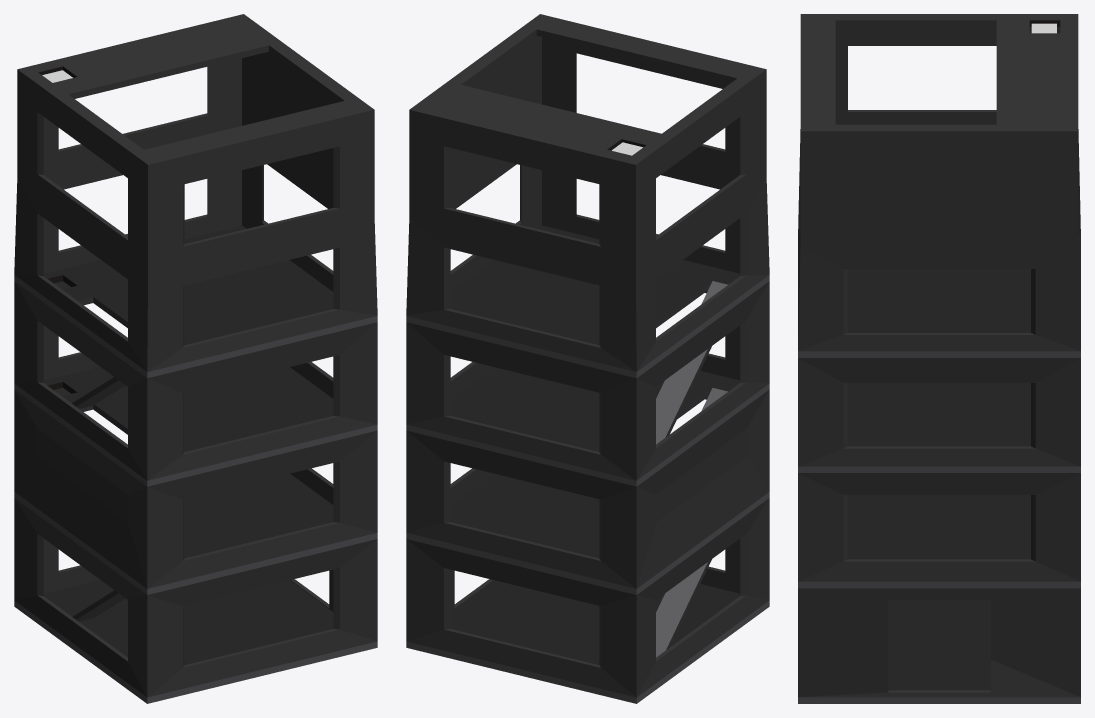
Rendered from building1gray.glb.
3 views of the same model, side by side, from view 1: azimuth 30°, elevation 25°; view 2: azimuth 150°, elevation 25°; view 3: azimuth 270°, elevation 25° (orthographic). The views are drawn at different scales.
Visible parts, largest first — view 1: building; view 2: building; view 3: building.
Boxes of the visible parts, x1,y1,x2,y2 form: building: (14, 14, 377, 703); building: (406, 14, 769, 703); building: (798, 14, 1080, 703).
Size of what is drawn, in the model's own units: 5.63 by 12.55 by 5.63.
Materials: 1 (1 with a texture image).
